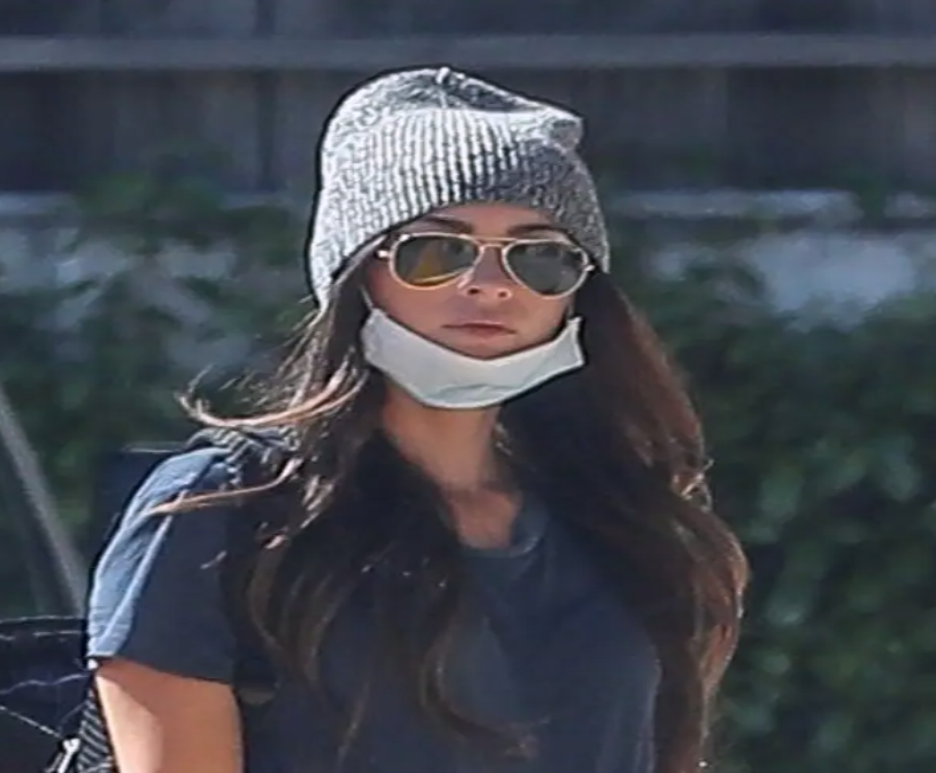mask_weared_incorrect: (308, 70, 608, 416)
